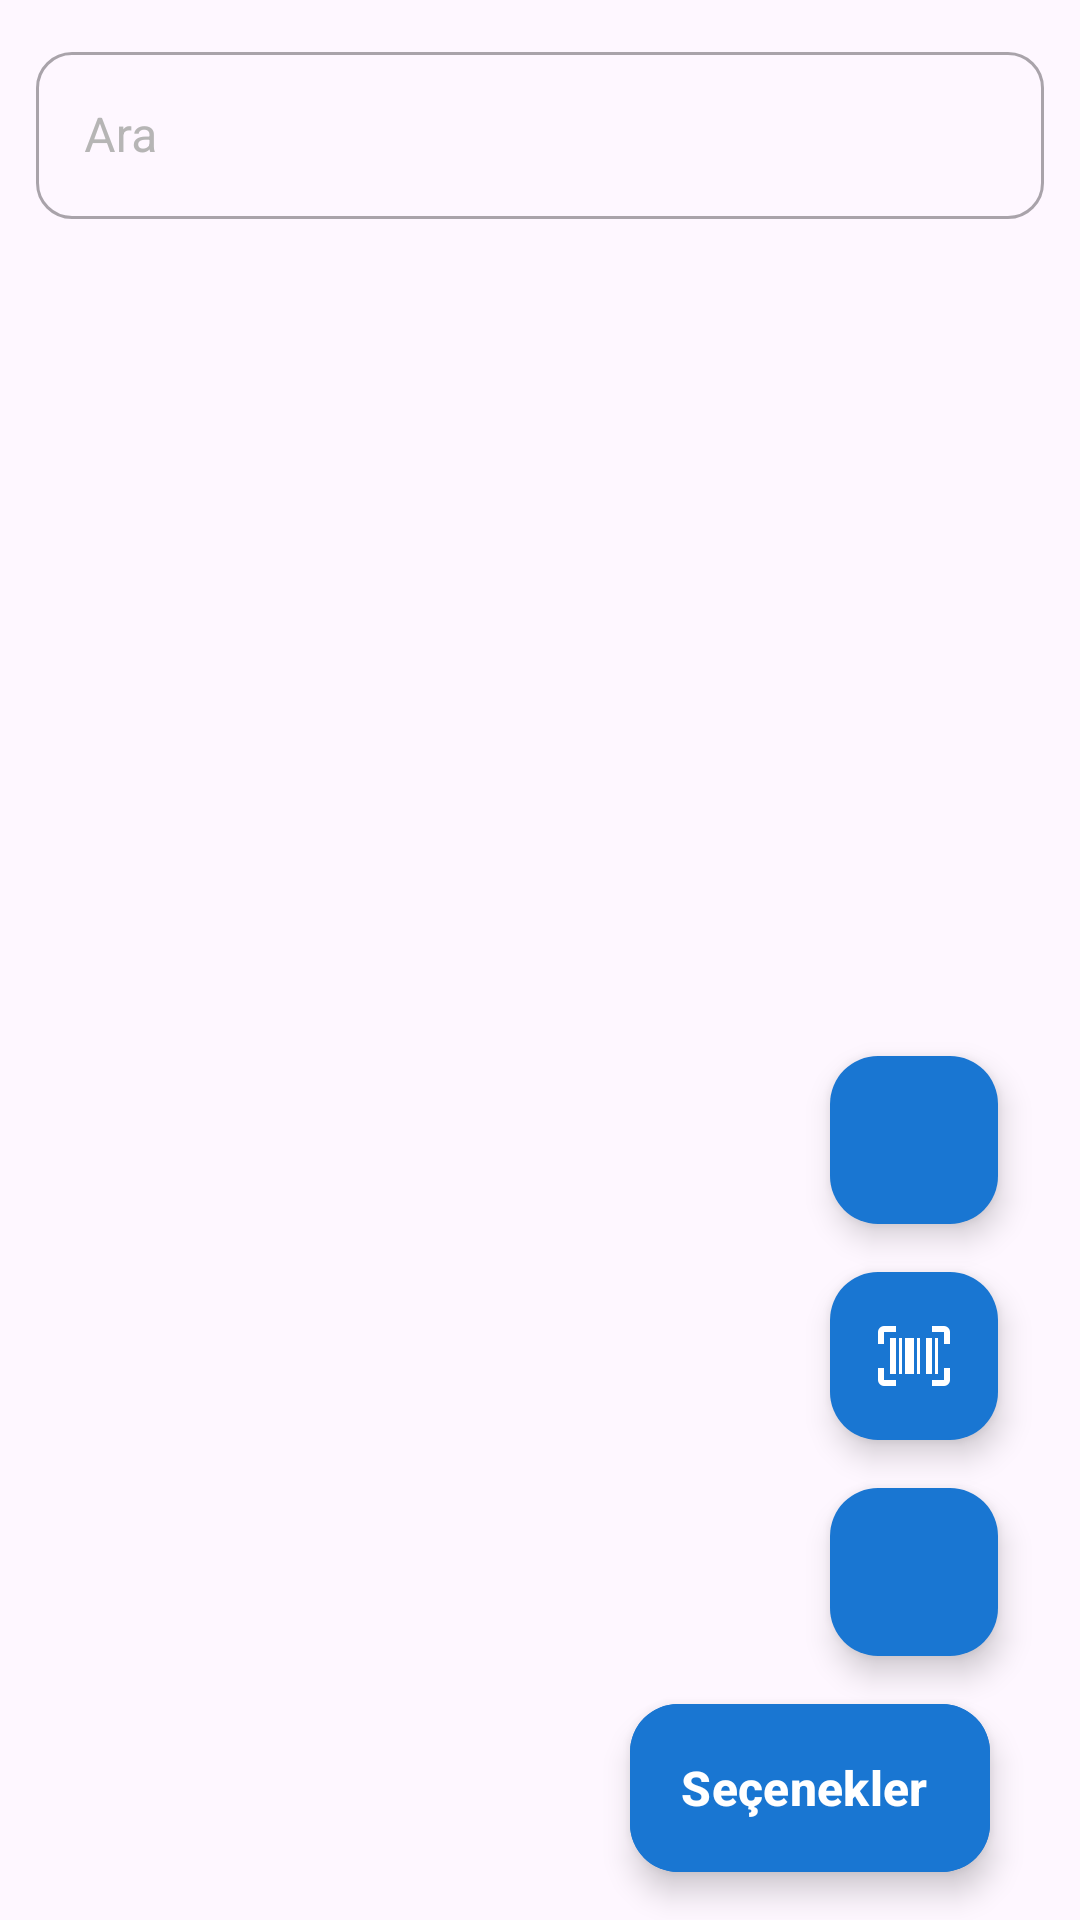

Screen size 1080×1920. Icon name, then its center in pixels as point (x, y):
barcode scan: point (914, 1356)
